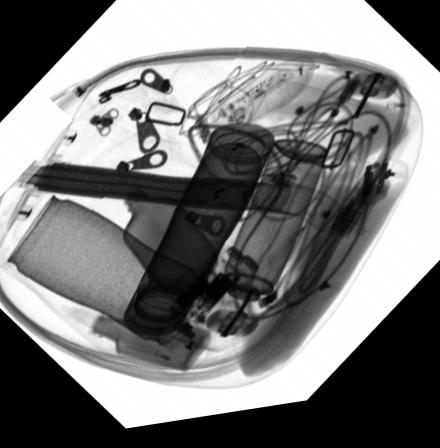Sprayer: (208, 146, 327, 335)
